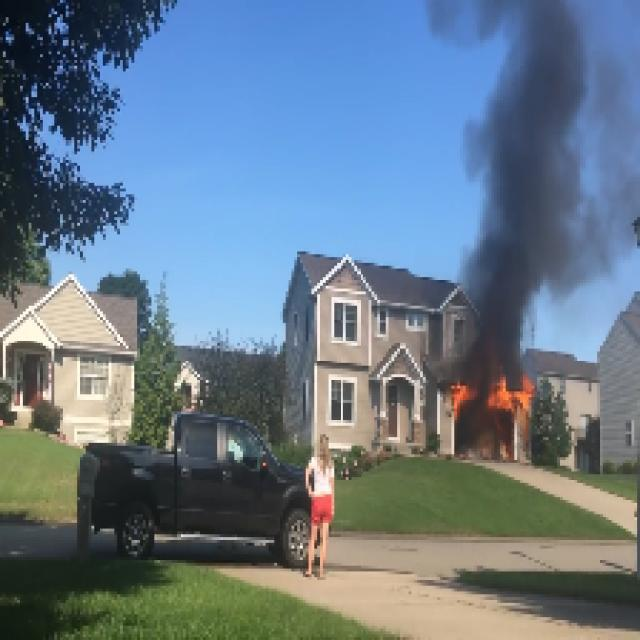Fire: (492, 377, 532, 420), (446, 377, 478, 414)
Smoke: (448, 3, 638, 360)
